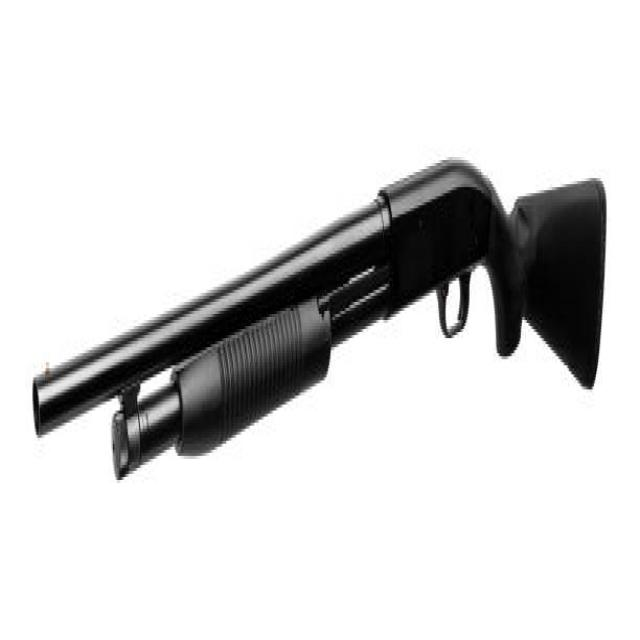rifle: (24, 134, 612, 503)
